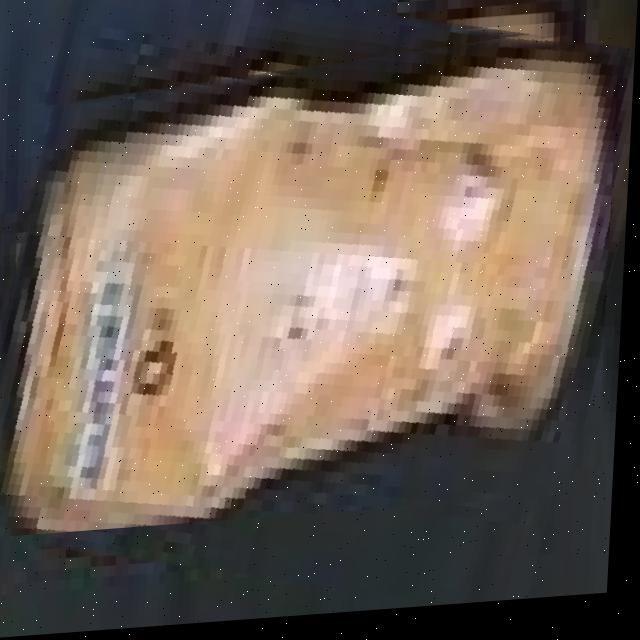can: (1, 56, 620, 538)
